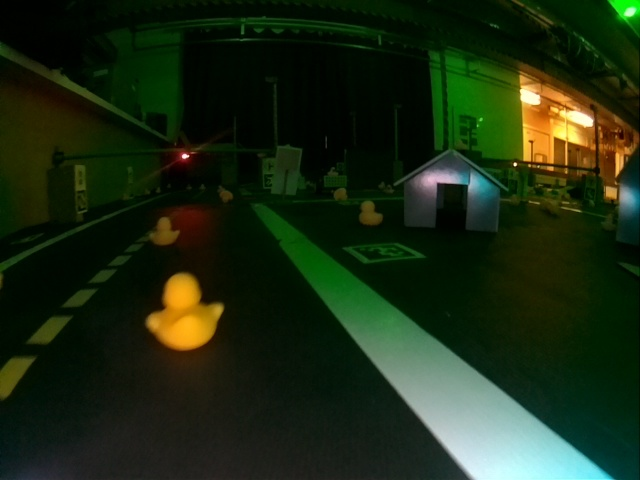Duckie: (147, 274, 225, 349), (149, 218, 179, 246), (359, 201, 382, 225), (334, 188, 347, 200), (219, 191, 232, 200)
Intersection sign: (262, 158, 275, 172)
QR code: (343, 243, 426, 265), (76, 189, 87, 213), (262, 174, 274, 188)
